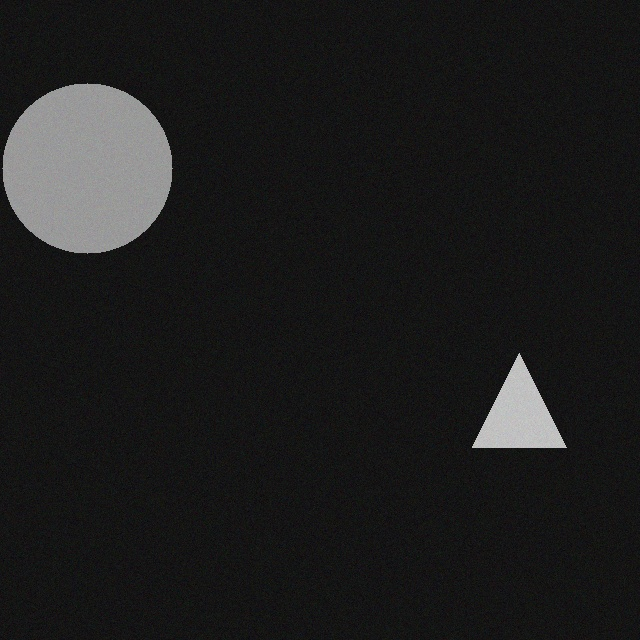circle: (10, 82, 180, 252)
triangle: (480, 352, 574, 446)
